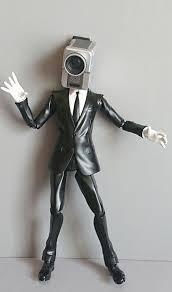no more kid: (60, 33, 100, 93)
